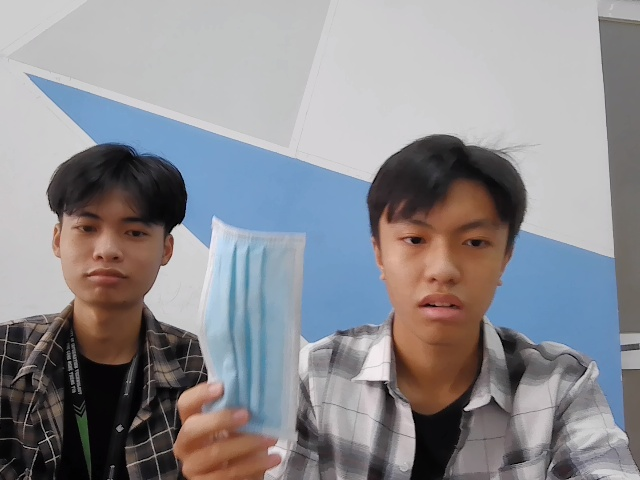human: (368, 138, 519, 345), (40, 137, 192, 312)
mask: (199, 221, 306, 441)
